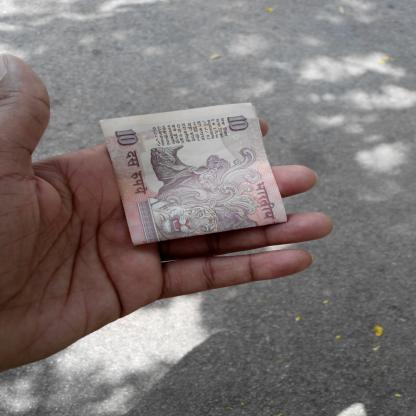Old10Back: (99, 102, 290, 247)
